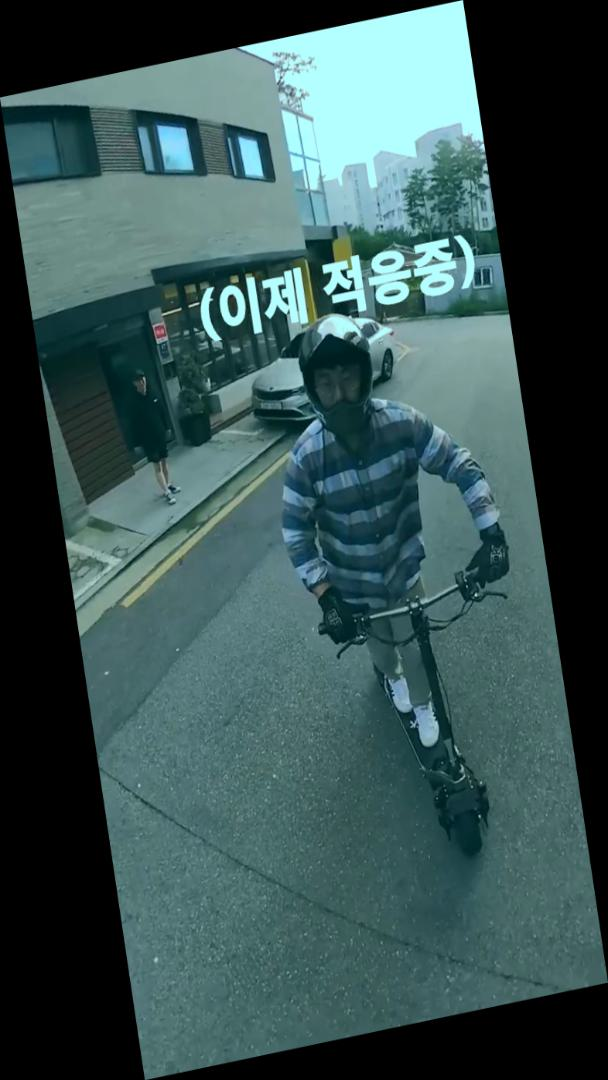helmet: (249, 283, 557, 890)
